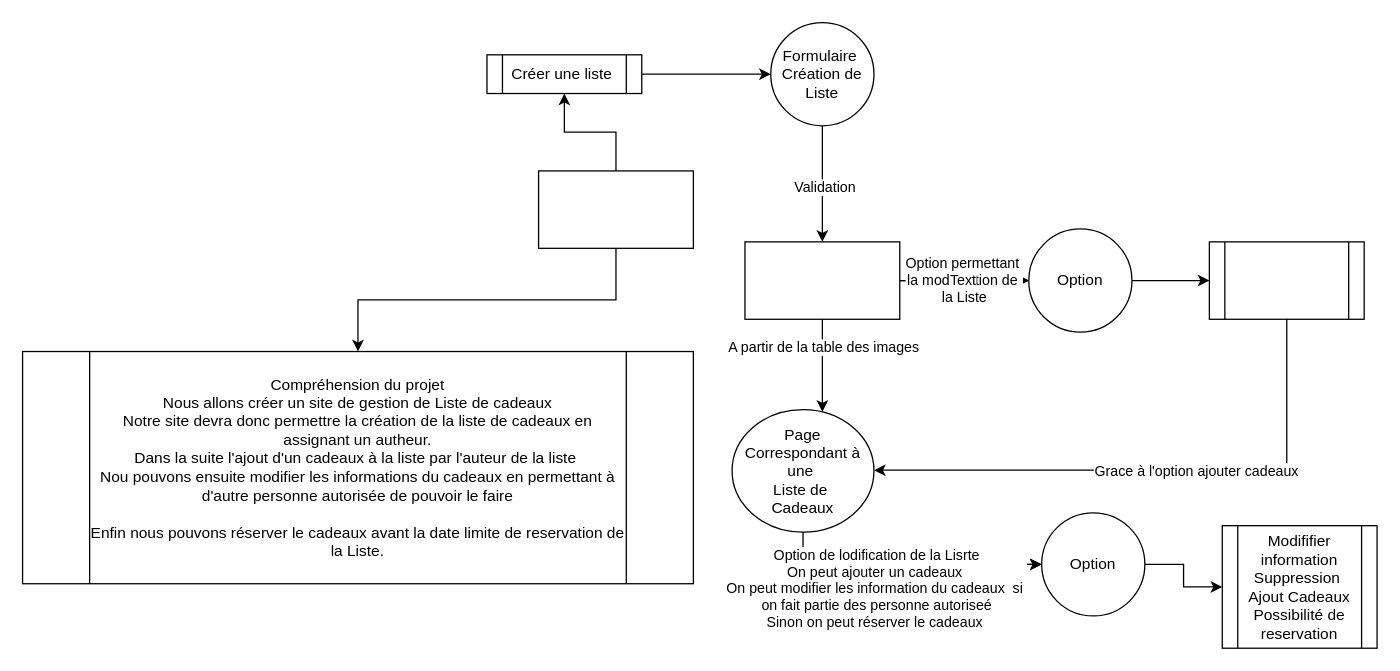
This 1400x671 diagram has some shape labels left out. Each missing label, with the centre of its shape:
Acceuil: the point at 615,209
Ajout dans une table de Liste: the point at 822,280
Modification Suppression Ajout Cadeaux: the point at 1286,280
